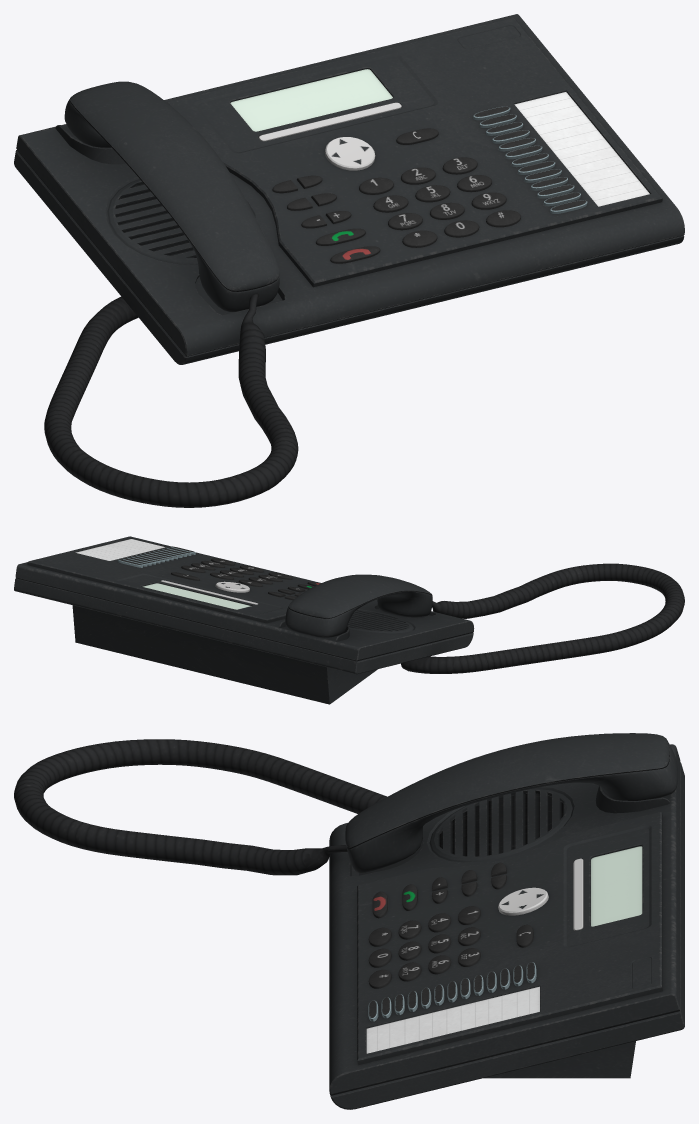
The model's file is phone_0001.fbx.
The picture shows the model from 3 angles, top to bottom: view 1: azimuth 30°, elevation 25°; view 2: azimuth 150°, elevation 25°; view 3: azimuth 270°, elevation 25°; orthographic projection. The views are drawn at different scales.
Parts seen in each view (by area): view 1: phone_0001_LOD0; view 2: phone_0001_LOD0; view 3: phone_0001_LOD0.
Part boxes in pixels (x1,y1,x2,y2): phone_0001_LOD0: [14, 14, 684, 507]; phone_0001_LOD0: [14, 536, 684, 704]; phone_0001_LOD0: [14, 733, 684, 1109].
Size of what is drawn, in the model's own units: 0.5305 by 0.1089 by 0.4291.
